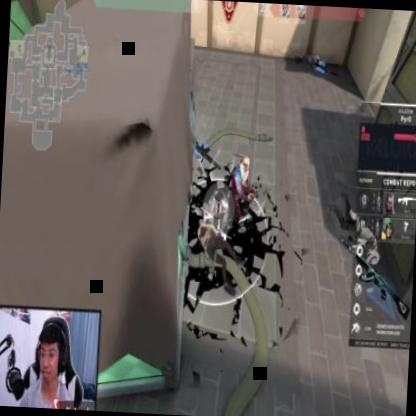enemy: (224, 153, 257, 224)
enemy_head: (242, 156, 251, 172)
